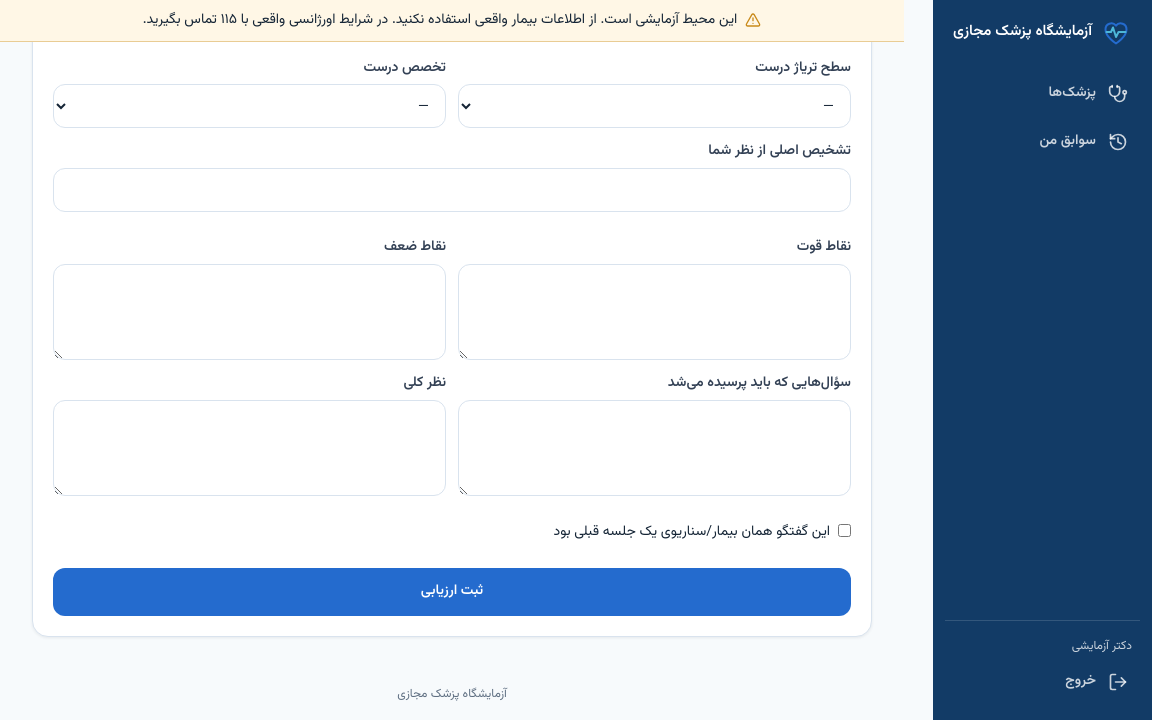
Test: KPI validation focus (DESIGN_SYSTEM §6.6) › marks the unrated rating and focuses its first box
The image size is (1152, 720).
(page scrolled)
Click the button "ثبت ارزیابی": click(452, 592) [53,568,851,616]
(page scrolled)
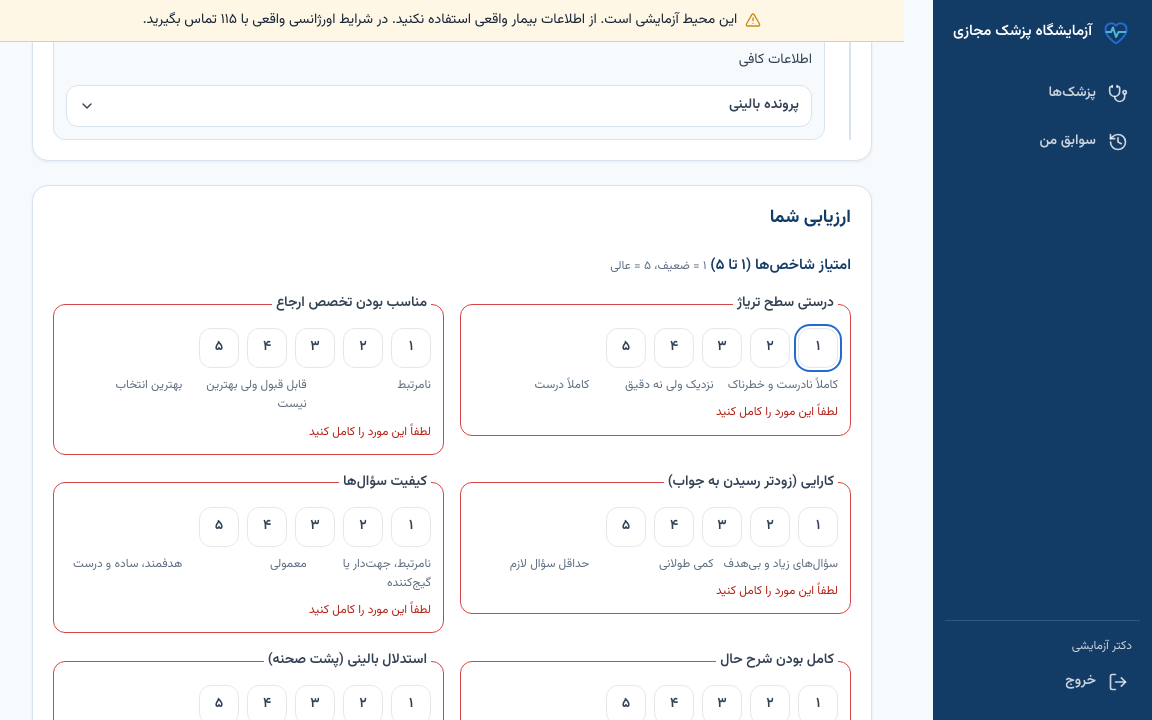
Now the text "لطفاً این مورد را کامل کنید" below "کاملاً نادرست و خطرناک" is shown, box [716,404,838,422]
